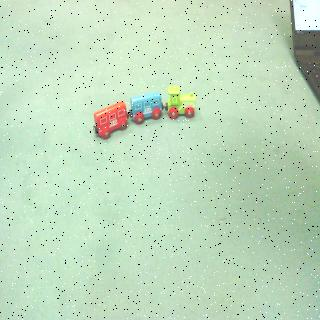train: (87, 84, 202, 143)
